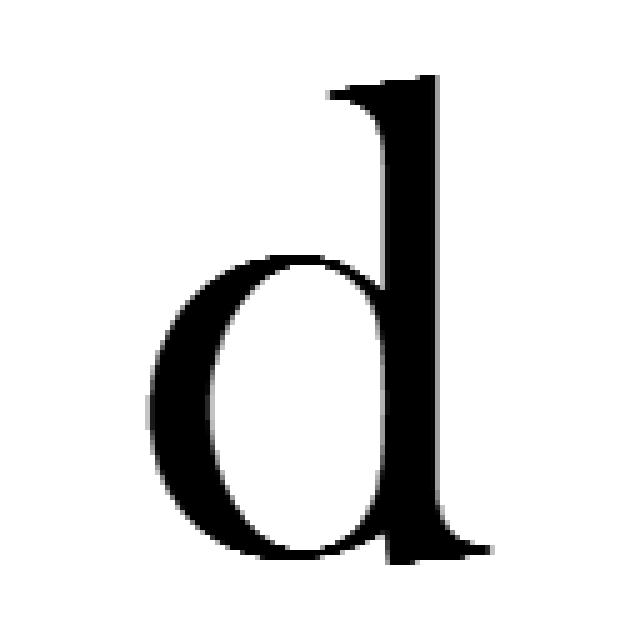D: (140, 65, 495, 570)
